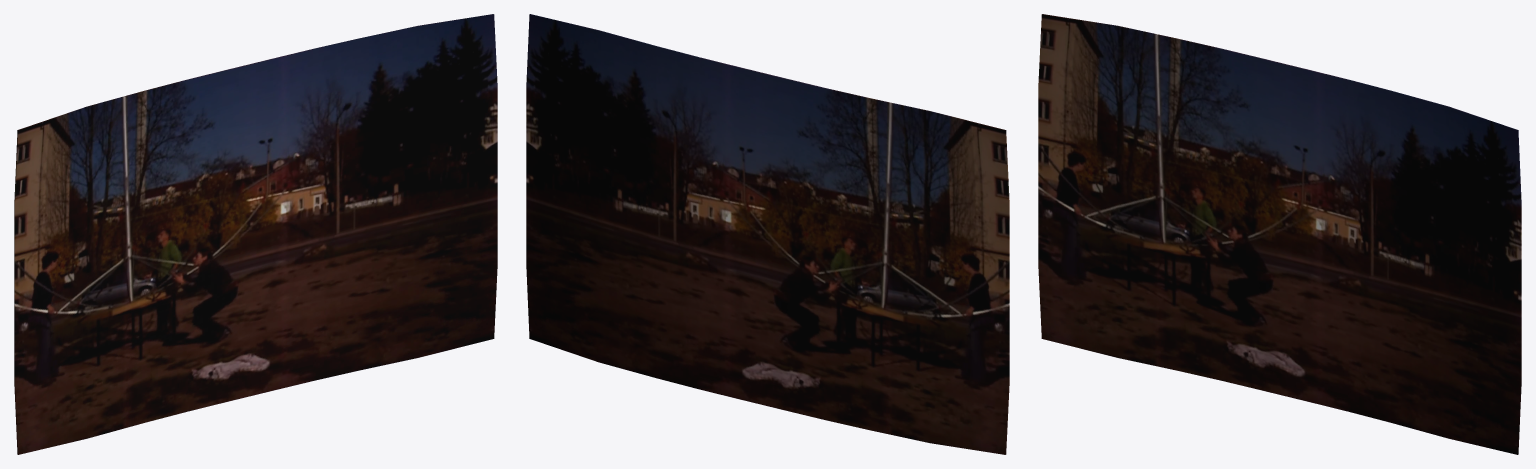
File: ausliebe.glb
3 views of the same model, side by side, from view 1: azimuth 30°, elevation 25°; view 2: azimuth 150°, elevation 25°; view 3: azimuth 330°, elevation 25° (orthographic).
Parts seen in each view (by area): view 1: videotarget; view 2: videotarget; view 3: videotarget.
Boxes of the visible parts, left/top/right/bottom form: videotarget: left=14, top=14, right=497, bottom=454; videotarget: left=526, top=14, right=1009, bottom=454; videotarget: left=1038, top=14, right=1521, bottom=454.
Size of the model in its own units: 2.62 by 1.72 by 0.0622.
1 material, 1 textured.
